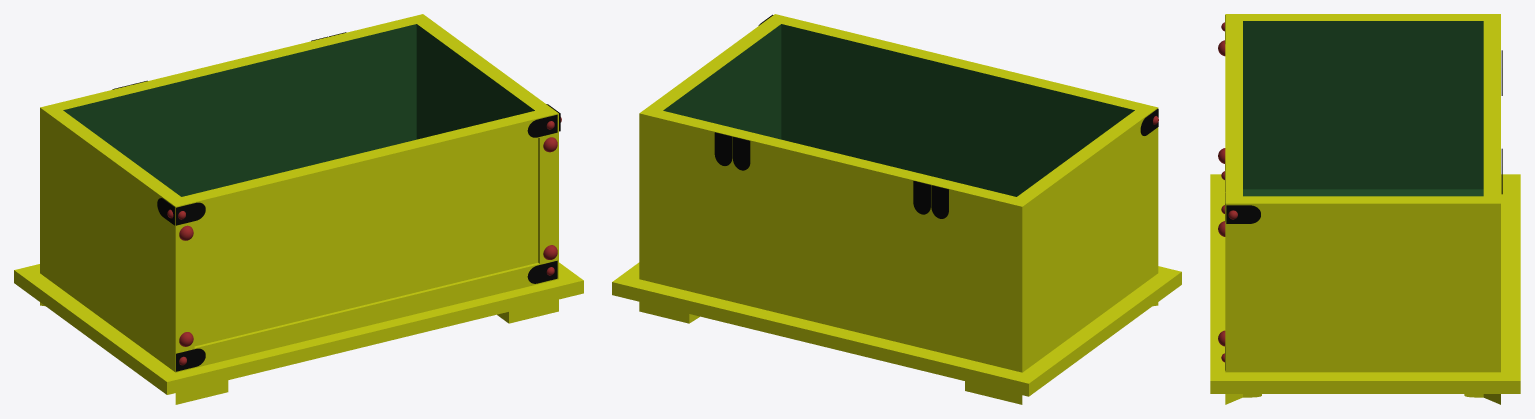
Rendered from ches2.FBX.
3 renders of one model, left to right at view 1: azimuth 30°, elevation 25°; view 2: azimuth 150°, elevation 25°; view 3: azimuth 270°, elevation 25°, orthographic.
Parts seen in each view (by area): view 1: Box001; view 2: Box001; view 3: Box001.
Part boxes in pixels (x1,y1,x2,y2): Box001: (14, 14, 583, 404); Box001: (612, 14, 1181, 404); Box001: (1210, 14, 1520, 404).
Size of the model in its own units: 78.37 by 35.61 by 49.83.
